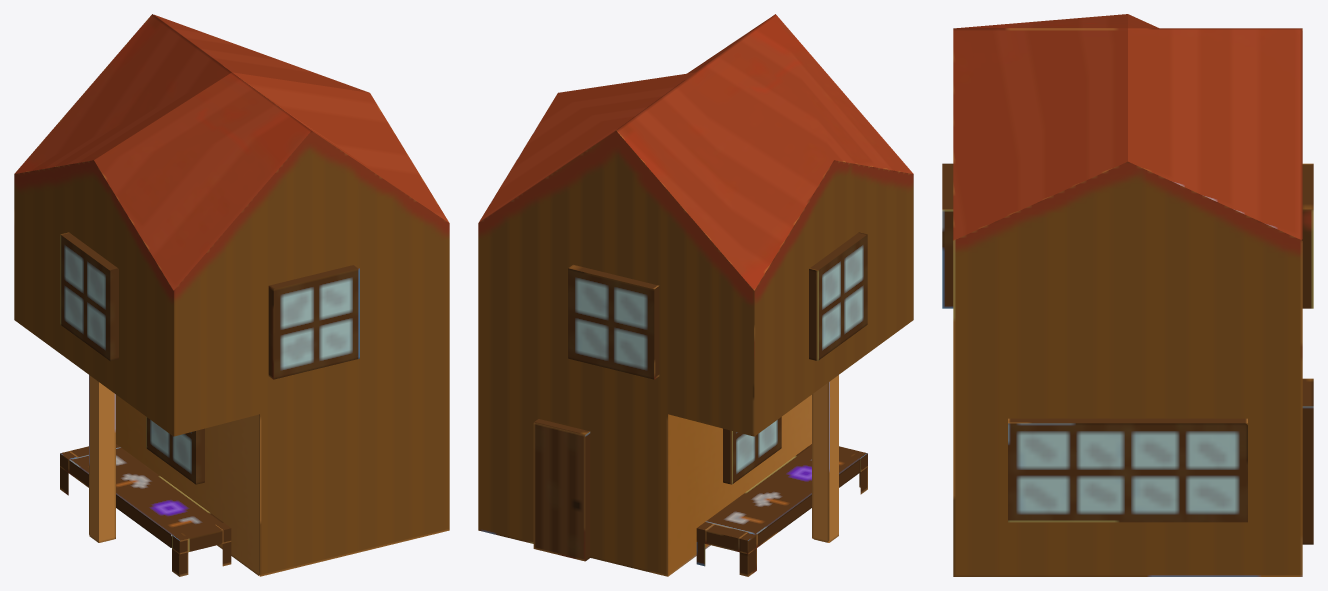
File: house.obj
The picture shows the model from 3 angles, left to right: view 1: azimuth 30°, elevation 25°; view 2: azimuth 150°, elevation 25°; view 3: azimuth 270°, elevation 25°; orthographic projection. The views are drawn at different scales.
Parts seen in each view (by area): view 1: cube; view 2: cube; view 3: cube.
Part boxes in pixels (x1,y1,x2,y2): cube: [14, 14, 449, 576]; cube: [478, 14, 913, 576]; cube: [942, 14, 1313, 576].
Size of the model in its own units: 1.06 by 1.5 by 1.06.
